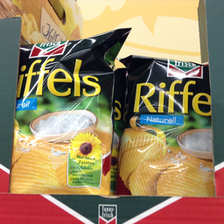chips: (8, 30, 124, 194), (120, 55, 214, 198)
